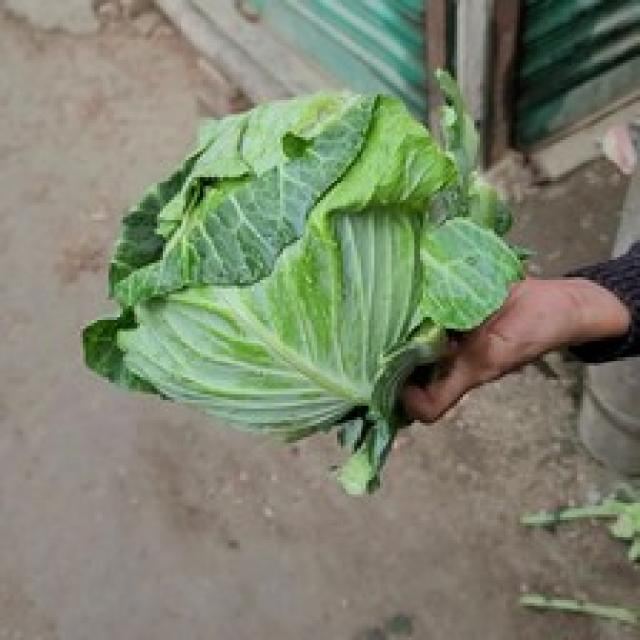Cabbage: (80, 66, 529, 494)
